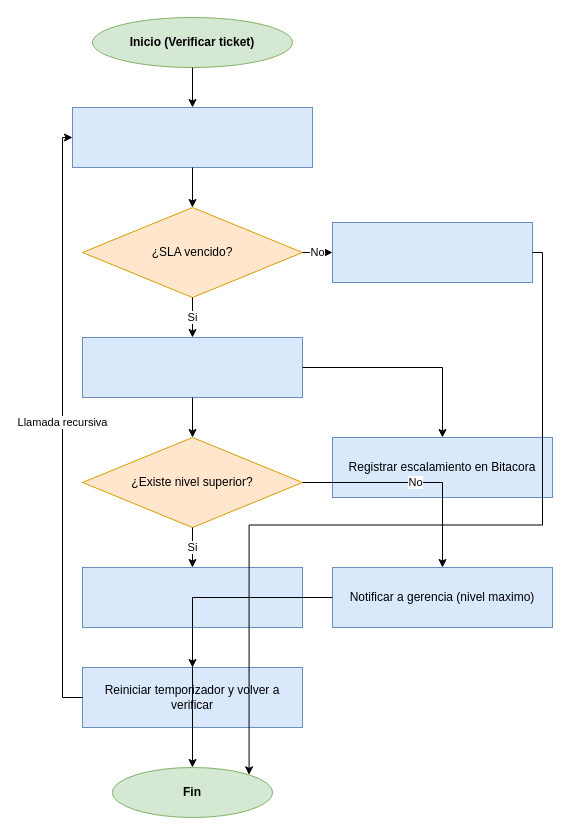
This 570x835 diagram has some shape labels left out. Here are the shapes that lost their labels. From the top down, the box of each, then its label:
(72, 106, 312, 168): Verificar tiempo transcurrido vs SLA
(332, 222, 532, 282): El proceso continua normal
(82, 336, 302, 398): ESCALAR: subir ticket al siguiente nivel
(82, 566, 302, 628): Notificar al nuevo responsable
